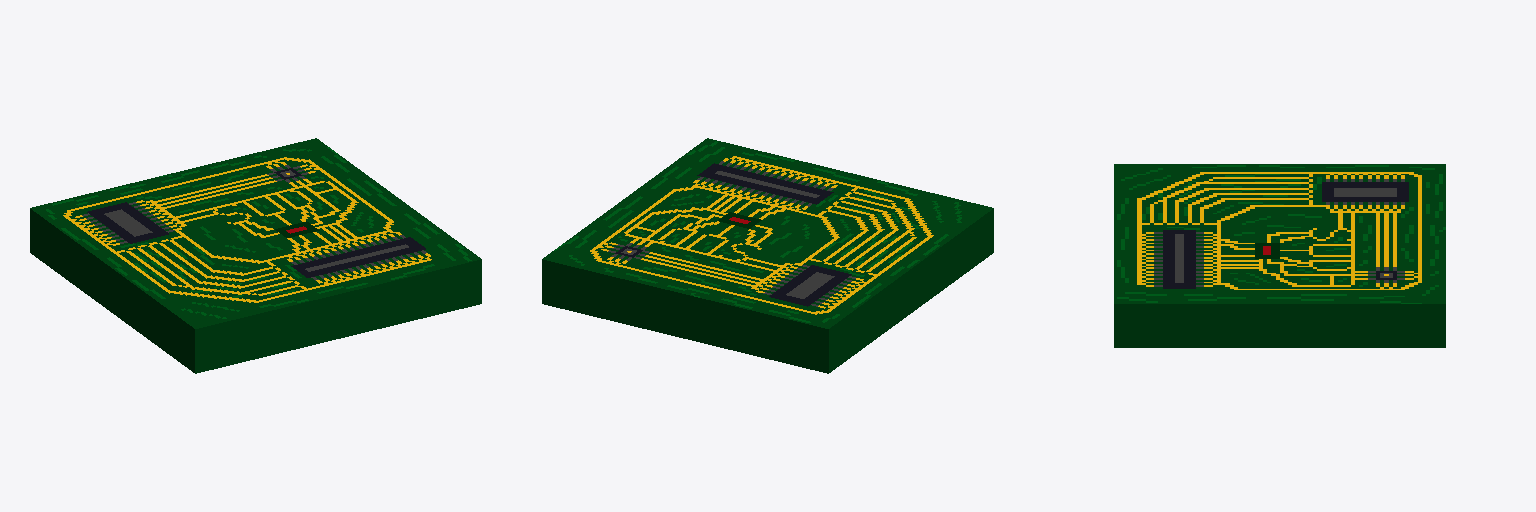
3 renders of one model, left to right at view 1: azimuth 30°, elevation 25°; view 2: azimuth 150°, elevation 25°; view 3: azimuth 270°, elevation 25°, orthographic.
Parts seen in each view (by area): view 1: pCube42; view 2: pCube42; view 3: pCube42.
Boxes of the visible parts, <box> form: pCube42: <box>30,138,481,373</box>; pCube42: <box>542,138,993,373</box>; pCube42: <box>1114,164,1445,347</box>.
Bounding box in the file's own units: 0.7647 × 0.1137 × 0.7647.
Materials: 1 (1 with a texture image).